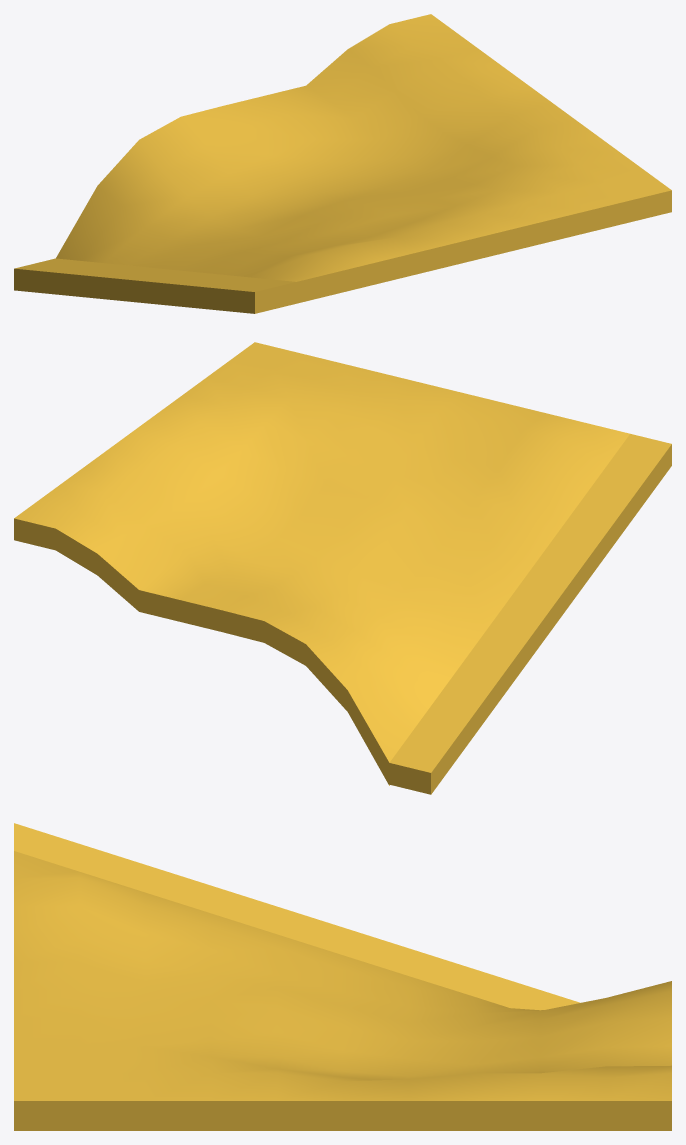
The model's file is Flach - Mitte - Ecke Invertiert b - x.fbx.
3 renders of one model, top to bottom at view 1: azimuth 30°, elevation 25°; view 2: azimuth 150°, elevation 25°; view 3: azimuth 270°, elevation 25°, orthographic. The views are drawn at different scales.
Parts seen in each view (by area): view 1: Flach - Mitte - Ecke Invertiert b - x; view 2: Flach - Mitte - Ecke Invertiert b - x; view 3: Flach - Mitte - Ecke Invertiert b - x.
Part boxes in pixels (<box>): Flach - Mitte - Ecke Invertiert b - x: <box>14,14,671,313</box>; Flach - Mitte - Ecke Invertiert b - x: <box>14,342,671,794</box>; Flach - Mitte - Ecke Invertiert b - x: <box>14,823,671,1130</box>.
Bounding box in the file's own units: 394 × 159 × 394.
